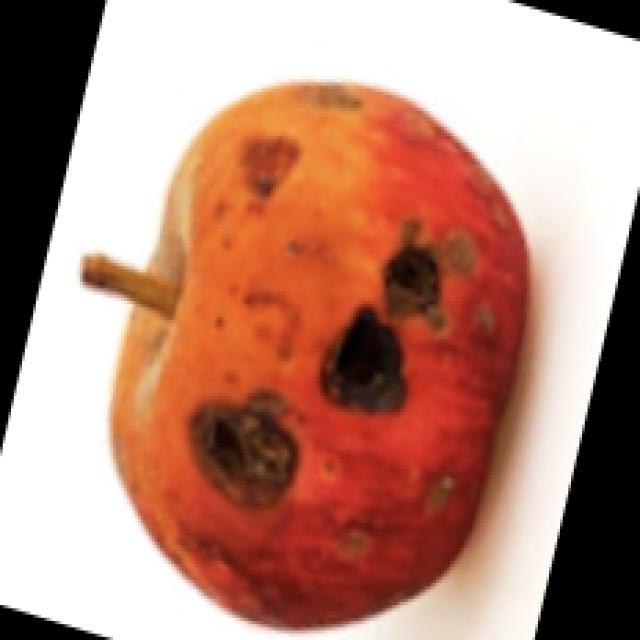Rotten: (104, 79, 535, 626)
